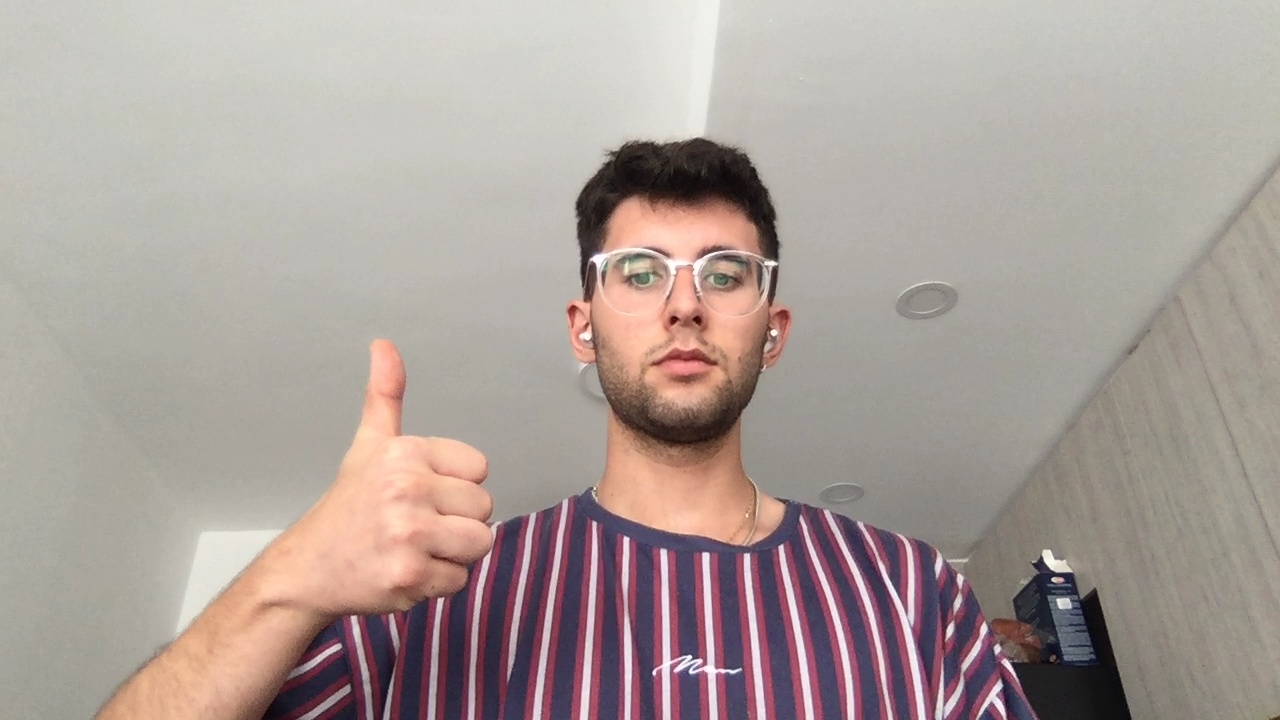good: (316, 332, 497, 620)
